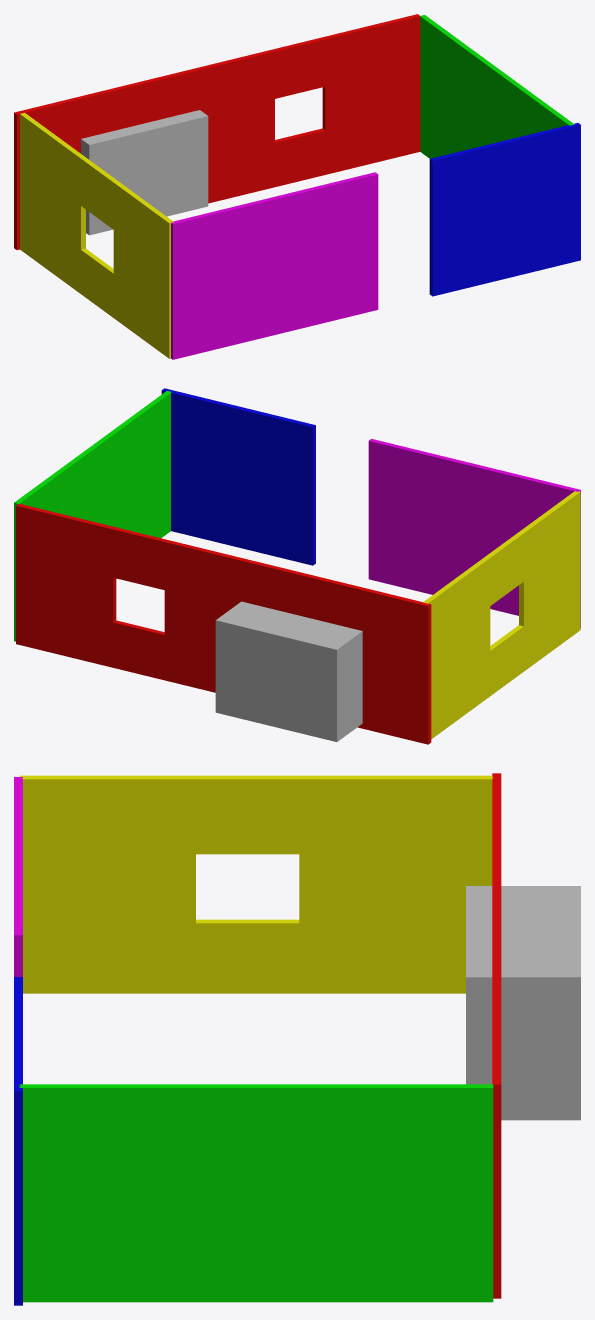
Rendered from Garage.fbx.
3 views of the same model, one above another, from view 1: azimuth 30°, elevation 25°; view 2: azimuth 150°, elevation 25°; view 3: azimuth 270°, elevation 25° (orthographic). The views are drawn at different scales.
Parts seen in each view (by area): view 1: polySurface3, polySurface7, polySurface10, polySurface1, polySurface5, polySurface9; view 2: polySurface3, polySurface10, polySurface1, polySurface7, polySurface9, polySurface5; view 3: polySurface5, polySurface1, polySurface9, polySurface3, polySurface10, polySurface7.
Boxes of the visible parts, left/top/right/bottom form: polySurface3: left=14, top=14, right=420, bottom=249; polySurface7: left=170, top=172, right=378, bottom=359; polySurface10: left=429, top=123, right=580, bottom=296; polySurface1: left=20, top=112, right=173, bottom=358; polySurface5: left=420, top=15, right=574, bottom=158; polySurface9: left=81, top=110, right=208, bottom=235; polySurface3: left=16, top=503, right=431, bottom=744; polySurface10: left=161, top=388, right=315, bottom=565; polySurface1: left=423, top=491, right=580, bottom=738; polySurface7: left=368, top=439, right=580, bottom=627; polySurface9: left=215, top=601, right=362, bottom=741; polySurface5: left=14, top=391, right=171, bottom=641; polySurface5: left=19, top=1084, right=493, bottom=1302; polySurface1: left=19, top=775, right=492, bottom=993; polySurface9: left=466, top=886, right=580, bottom=1120; polySurface3: left=492, top=773, right=501, bottom=1298; polySurface10: left=14, top=977, right=22, bottom=1305; polySurface7: left=14, top=777, right=22, bottom=976.
Size of the model in its own units: 141 by 44.32 by 106.
